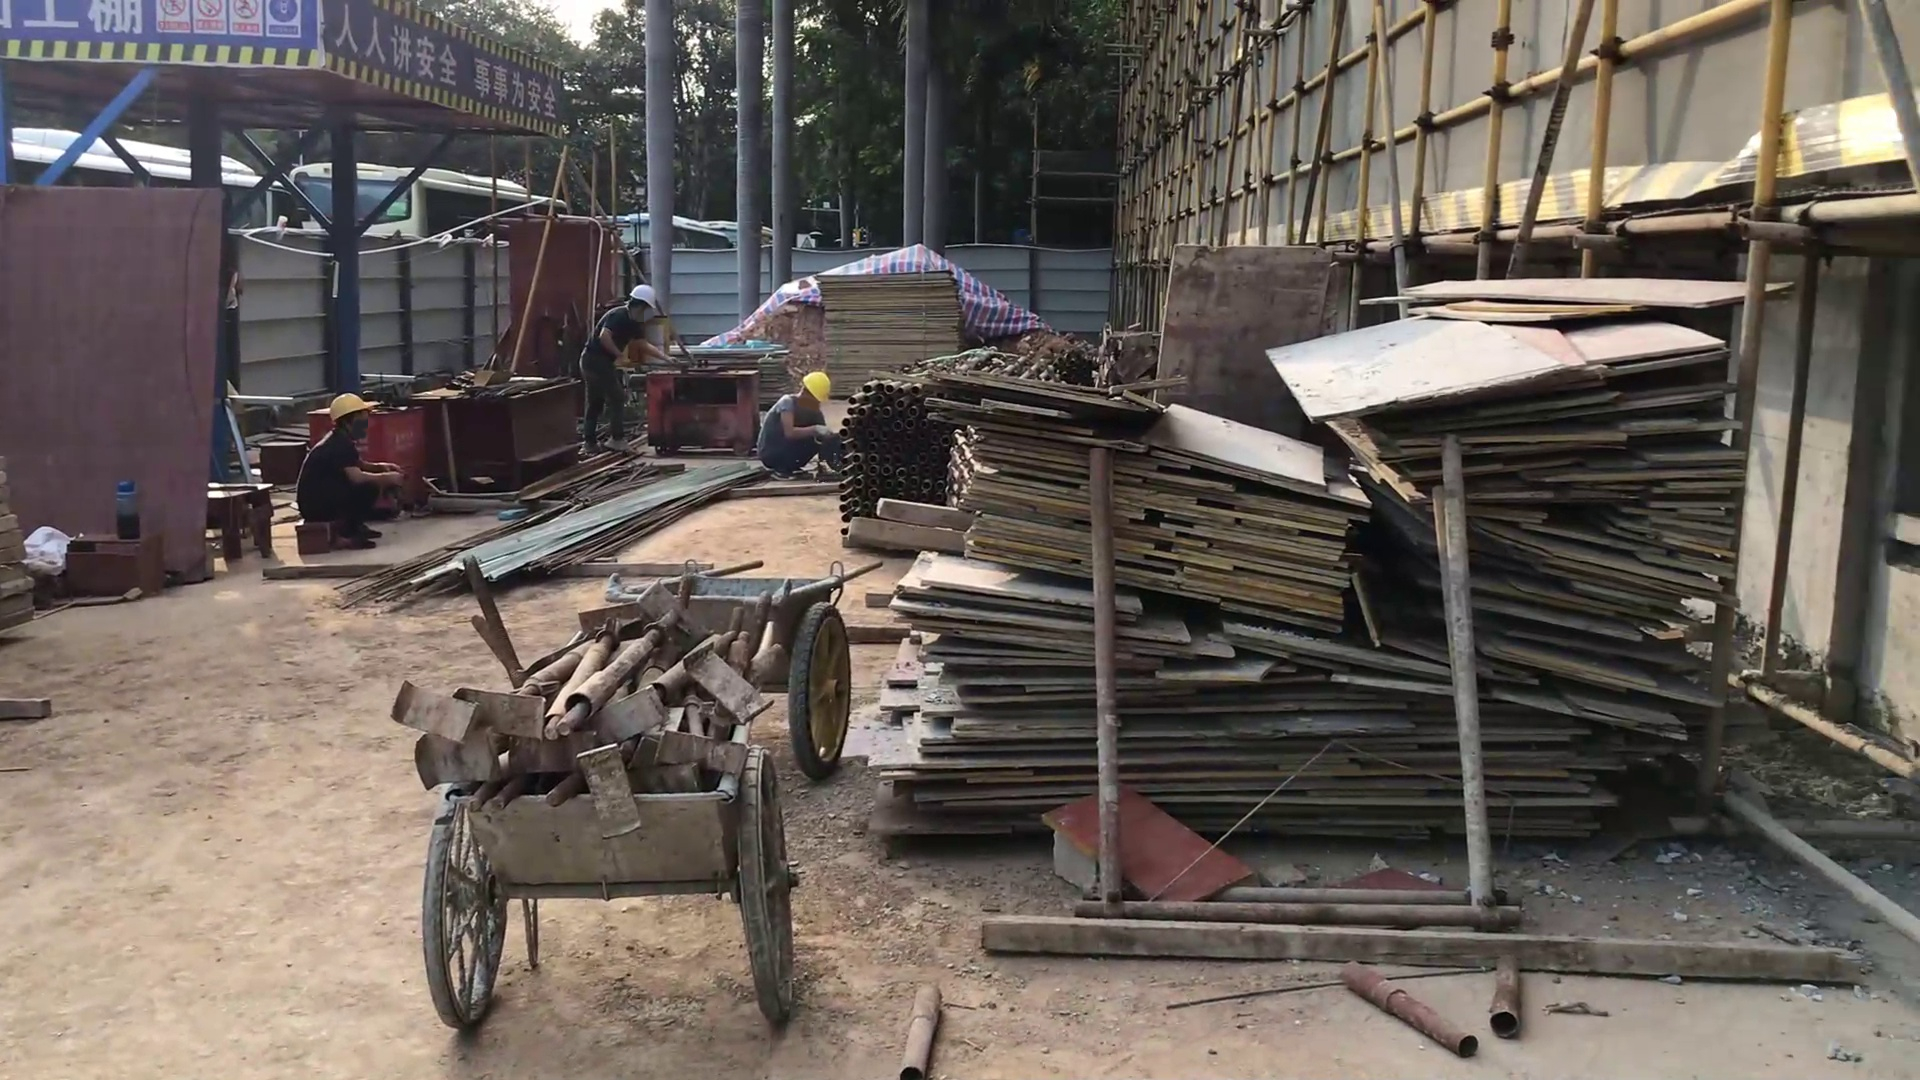board: (866, 280, 1758, 844), (815, 269, 967, 399)
handcart: (417, 709, 802, 1032), (606, 557, 885, 783)
helmet: (326, 390, 379, 427), (622, 280, 660, 317), (799, 370, 834, 408)
person: (292, 383, 407, 555), (575, 279, 683, 457), (754, 365, 843, 480)
rebar: (341, 461, 768, 611)
scaffold: (840, 357, 962, 526)
slogan: (1, 1, 570, 141)
